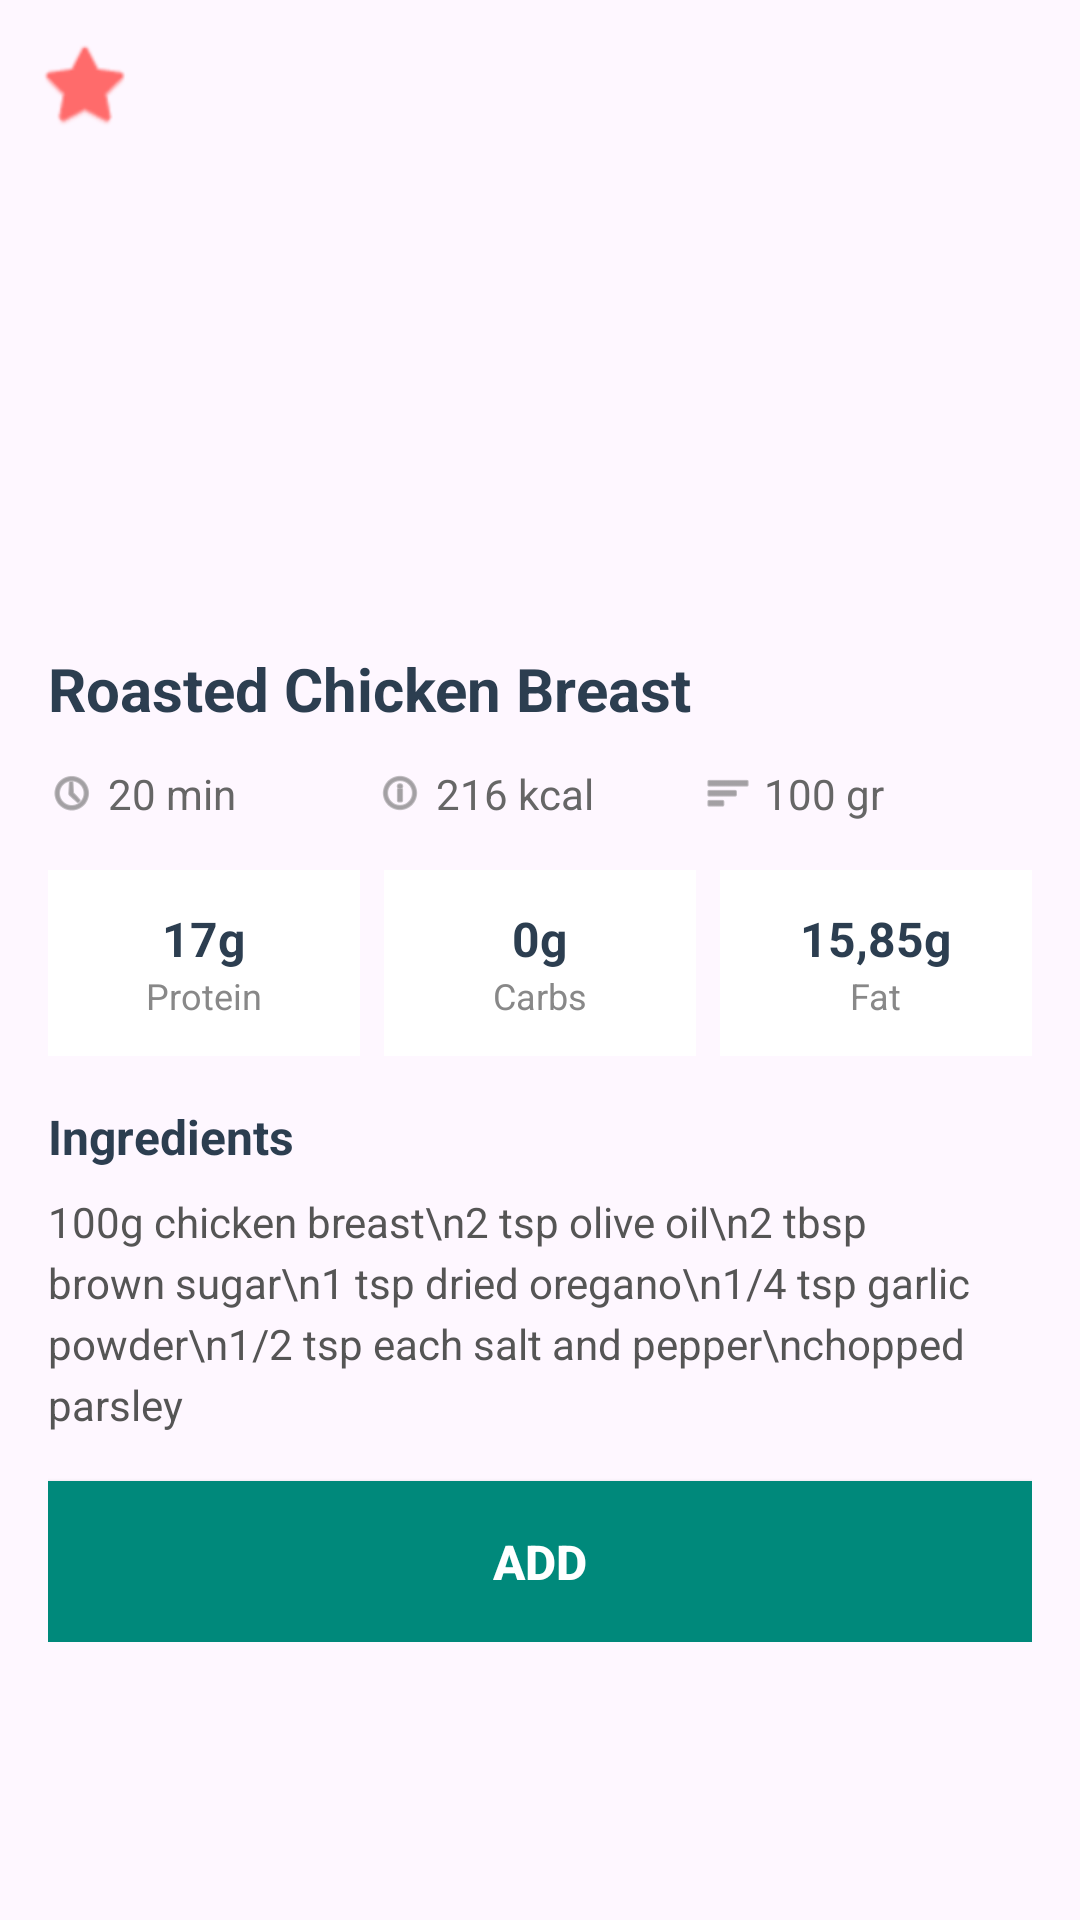

Icon click points for this 1080×1920 phone screenshot, format (x,y):
Favorite: (85,84)
Time: (71,793)
